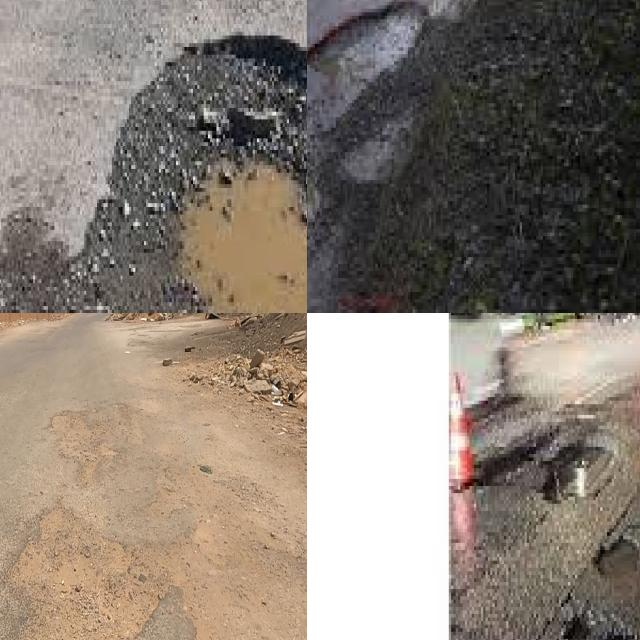Pothole: (72, 34, 307, 313), (307, 0, 429, 244), (11, 507, 167, 640), (51, 403, 144, 485)
